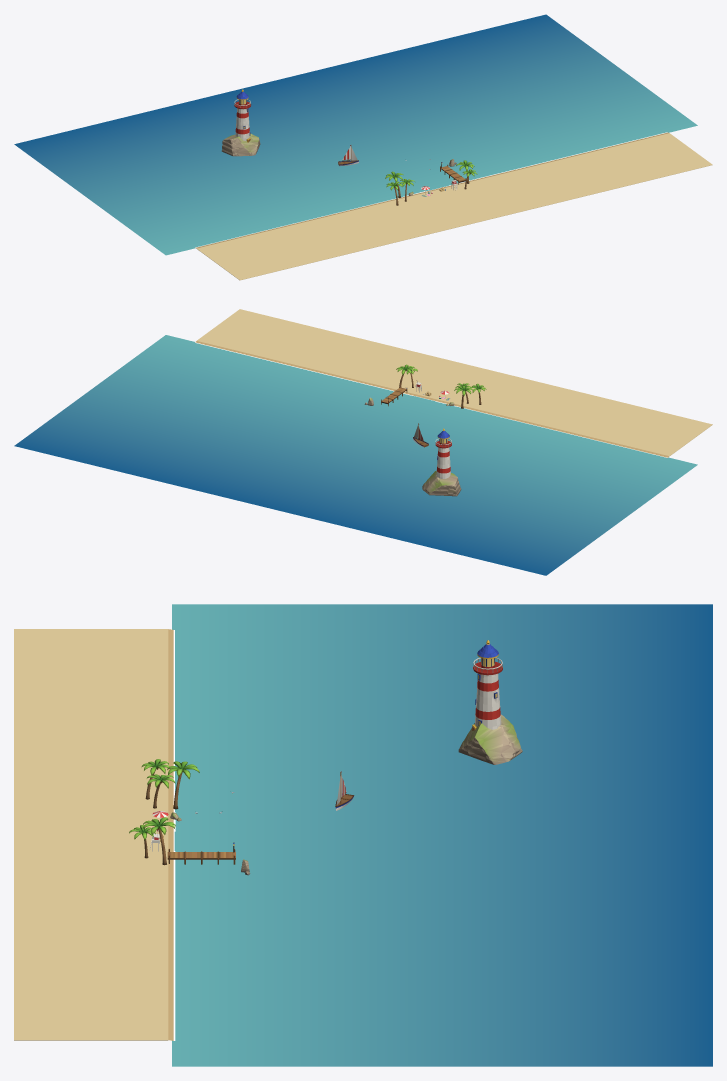
File: beach.glb
3 views of the same model, one above another, from view 1: azimuth 30°, elevation 25°; view 2: azimuth 150°, elevation 25°; view 3: azimuth 270°, elevation 25° (orthographic). The views are drawn at different scales.
Visible parts, largest first — view 1: Sea, Sand, Shore, IslandRock, Lighthouse; view 2: Sea, Sand, Shore, IslandRock, Lighthouse; view 3: Sea, Sand, Shore, Lighthouse, IslandRock.
Boxes of the visible parts, x1=… form: Sea: x1=14, y1=14, x2=697, y2=255; Sand: x1=196, y1=133, x2=712, y2=280; Shore: x1=195, y1=132, x2=668, y2=248; IslandRock: x1=221, y1=134, x2=260, y2=156; Lighthouse: x1=234, y1=89, x2=251, y2=142; Sea: x1=14, y1=335, x2=697, y2=575; Sand: x1=197, y1=309, x2=712, y2=456; Shore: x1=195, y1=341, x2=669, y2=457; IslandRock: x1=422, y1=471, x2=461, y2=496; Lighthouse: x1=435, y1=428, x2=451, y2=478; Sea: x1=172, y1=604, x2=712, y2=1066; Sand: x1=14, y1=629, x2=168, y2=1040; Shore: x1=168, y1=629, x2=173, y2=1040; Lighthouse: x1=472, y1=640, x2=502, y2=730; IslandRock: x1=458, y1=714, x2=522, y2=764.
Bounding box in the file's own units: 180 × 21.89 × 115.
